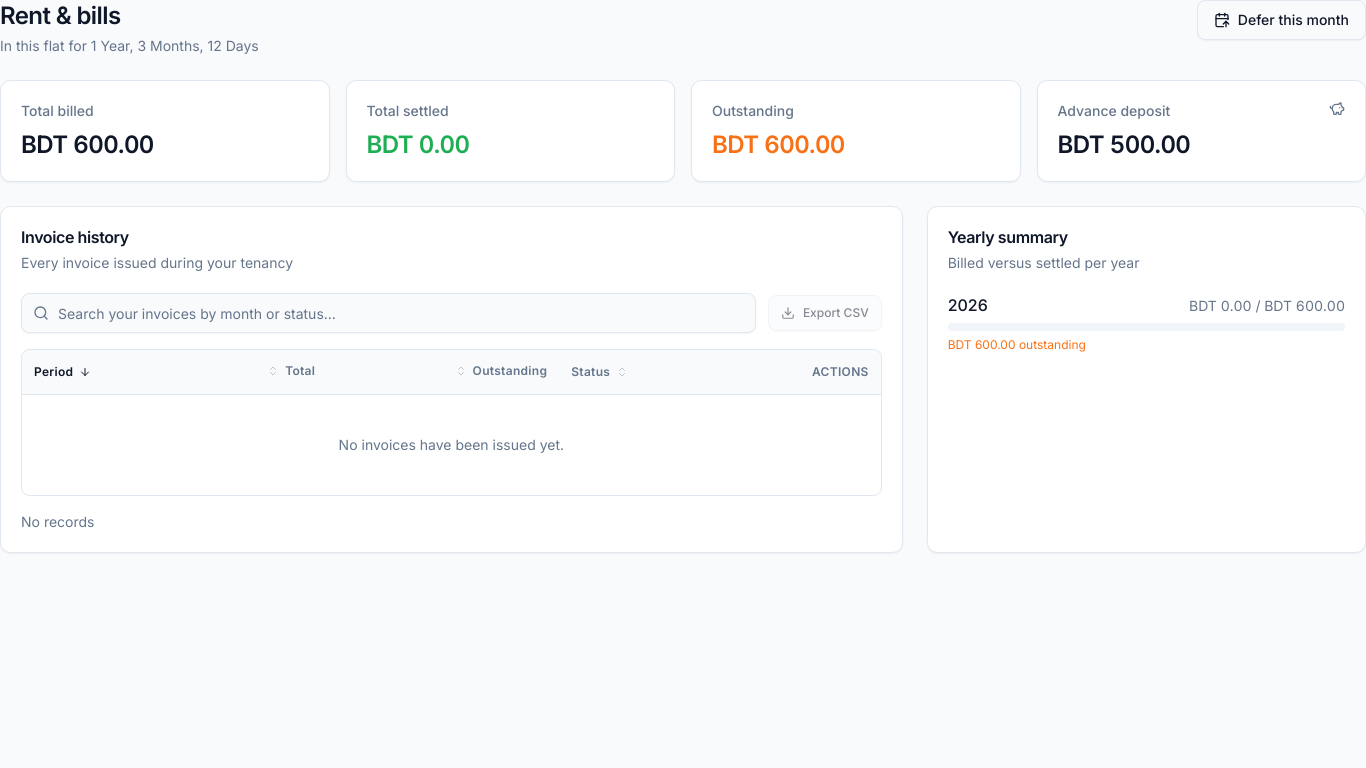
Test: RentPage — deferral flow (QA matrix 7.2) › submits the deferral and closes the dialog
Click the button "Defer this month": (1281,20) left=1197, top=0, right=1365, bottom=40
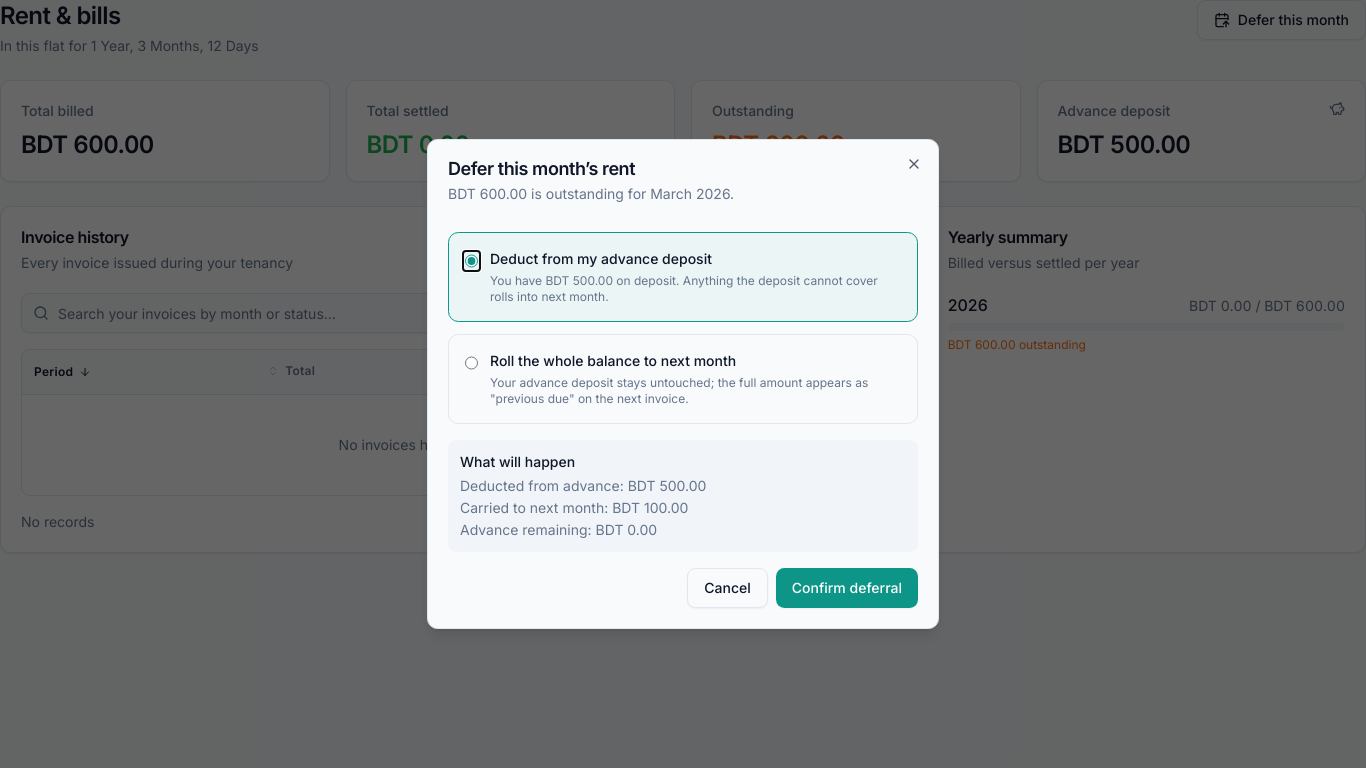
Click the button "Confirm deferral": (847,588) left=776, top=568, right=918, bottom=608
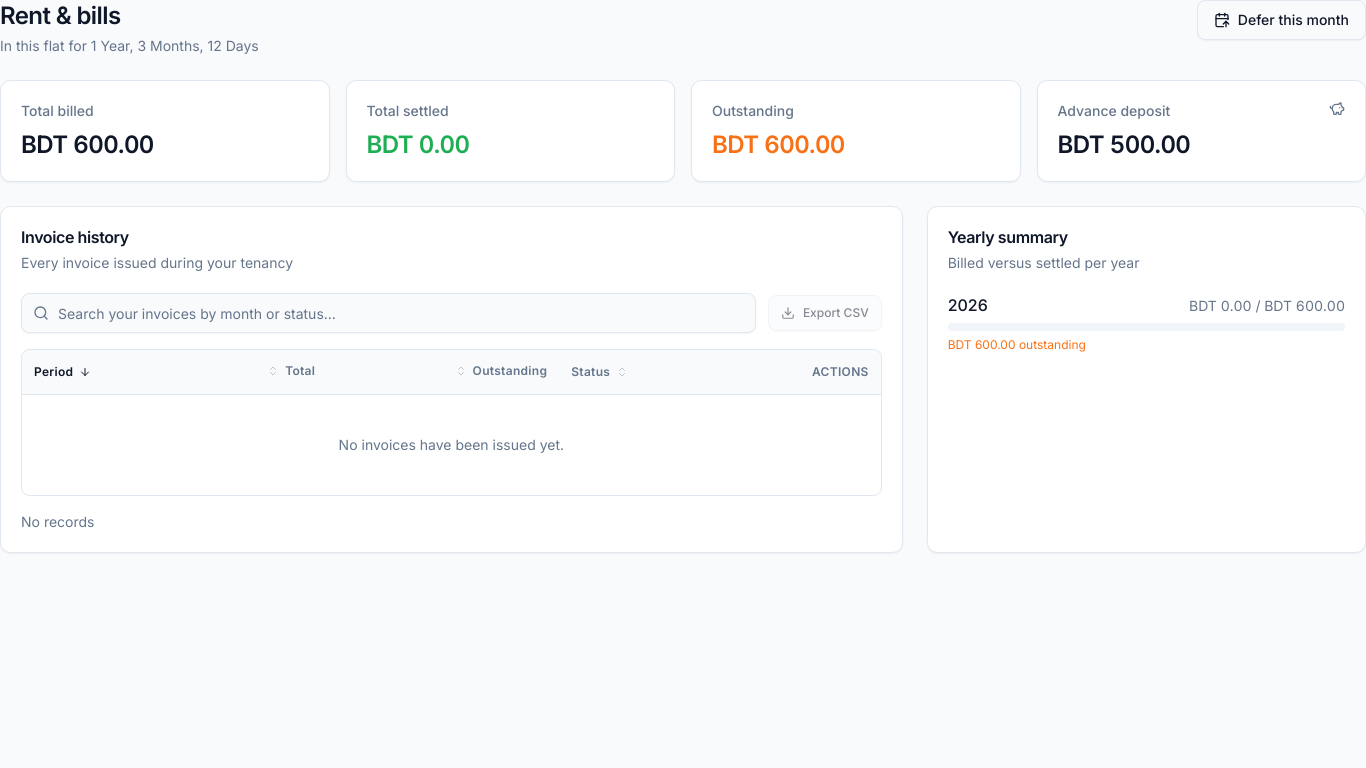
Expected: the dialog is gone
